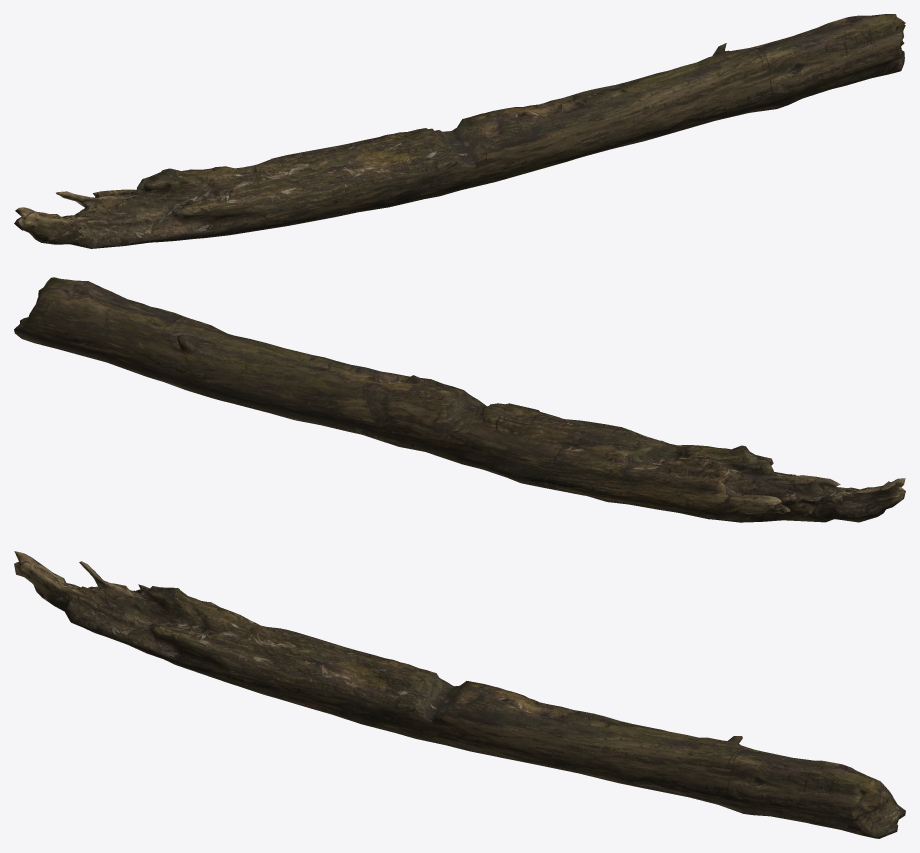
Rendered from tronco-v1.glb.
3 renders of one model, top to bottom at view 1: azimuth 30°, elevation 25°; view 2: azimuth 150°, elevation 25°; view 3: azimuth 330°, elevation 25°, orthographic.
Parts seen in each view (by area): view 1: dead_tree_trunk; view 2: dead_tree_trunk; view 3: dead_tree_trunk.
Part boxes in pixels (x1,y1,x2,y2): dead_tree_trunk: (14, 14, 905, 248); dead_tree_trunk: (14, 277, 905, 522); dead_tree_trunk: (14, 551, 905, 838).
Size of the model in its own units: 3.05 by 0.2899 by 0.2764.
1 material, 1 textured.
